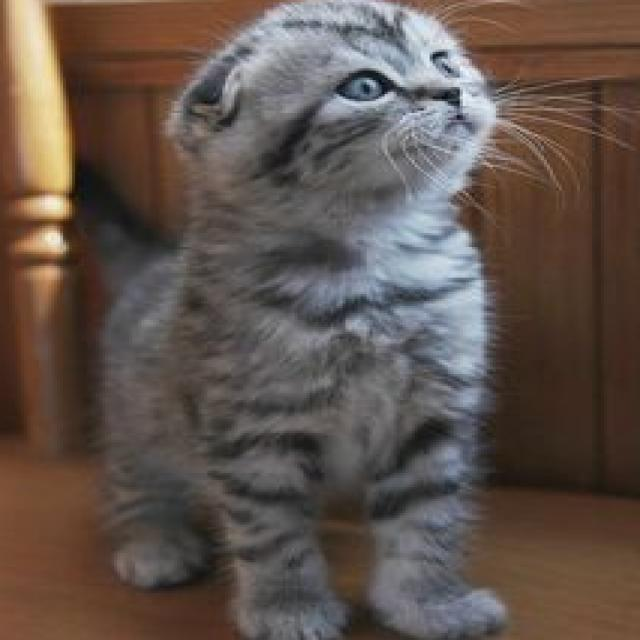Scottish Fold: (57, 0, 517, 640)
